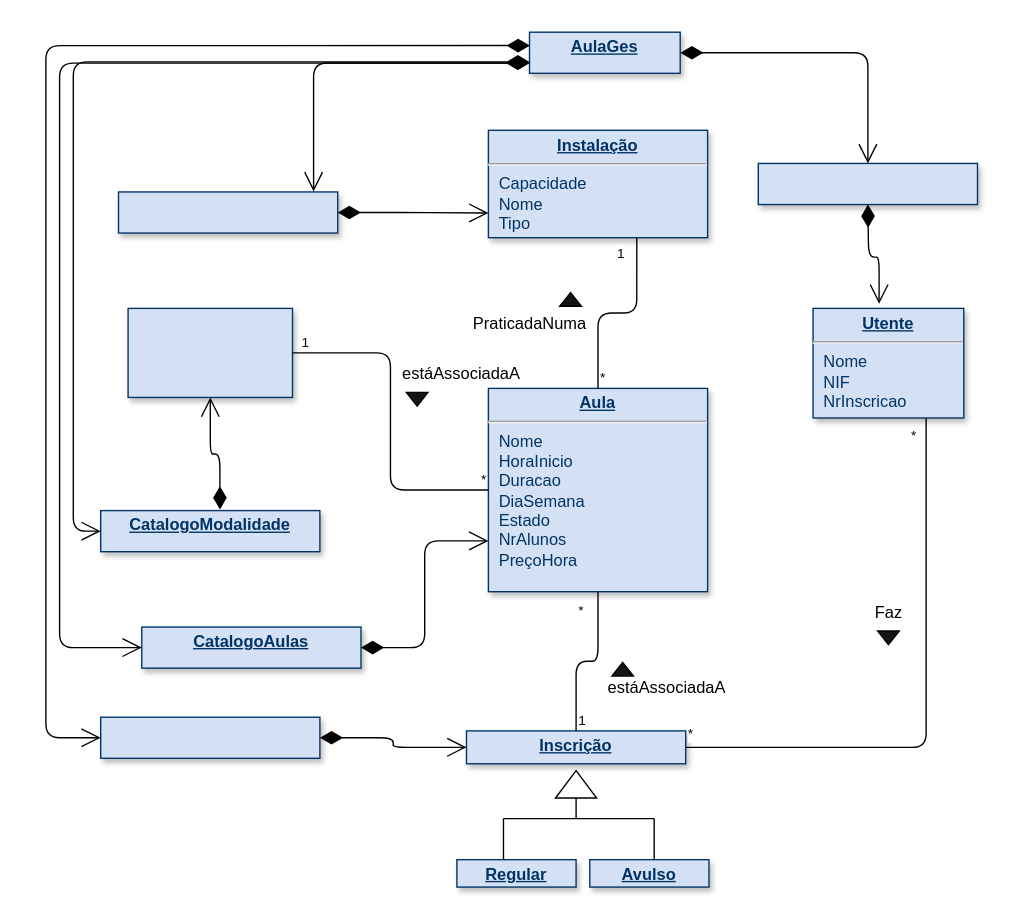
Some shapes in this 1010 by 922 pixel diagram are drawn without their labels. The centre of each missing label's shape, as x and y in pixels:
"CatalogoInscricao" belongs at (x=211, y=739).
"CatalogoInstalacao" belongs at (x=229, y=214).
"CatalogoUtente" belongs at (x=868, y=185).
"Modalidade Nome" belongs at (x=211, y=354).
